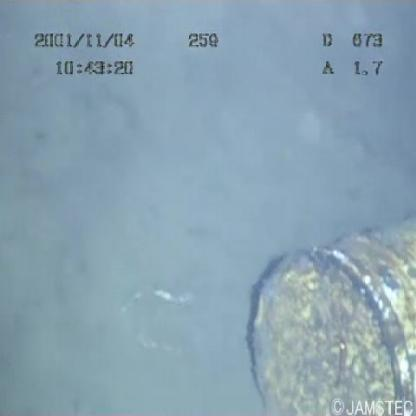Rác: (242, 196, 416, 415)
